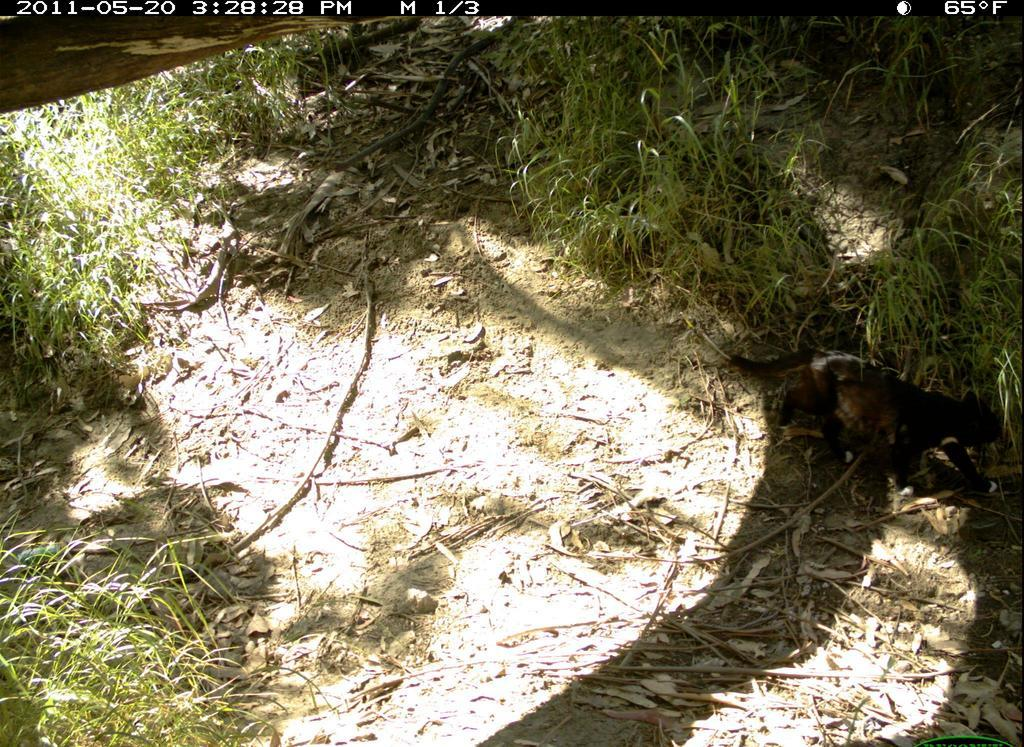cat: (722, 337, 1007, 514)
